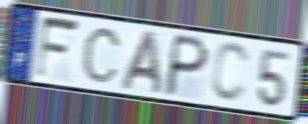5: (257, 48, 293, 109)
A: (117, 28, 165, 97)
C: (209, 40, 253, 106), (81, 26, 123, 85)
F: (33, 14, 83, 83)
P: (161, 32, 212, 99)
